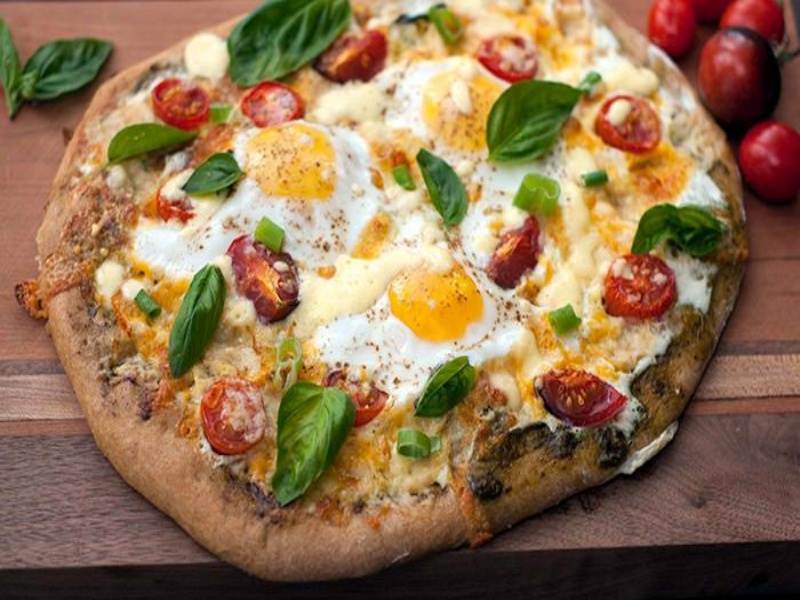oeuf: (381, 245, 492, 354), (235, 123, 357, 219)
